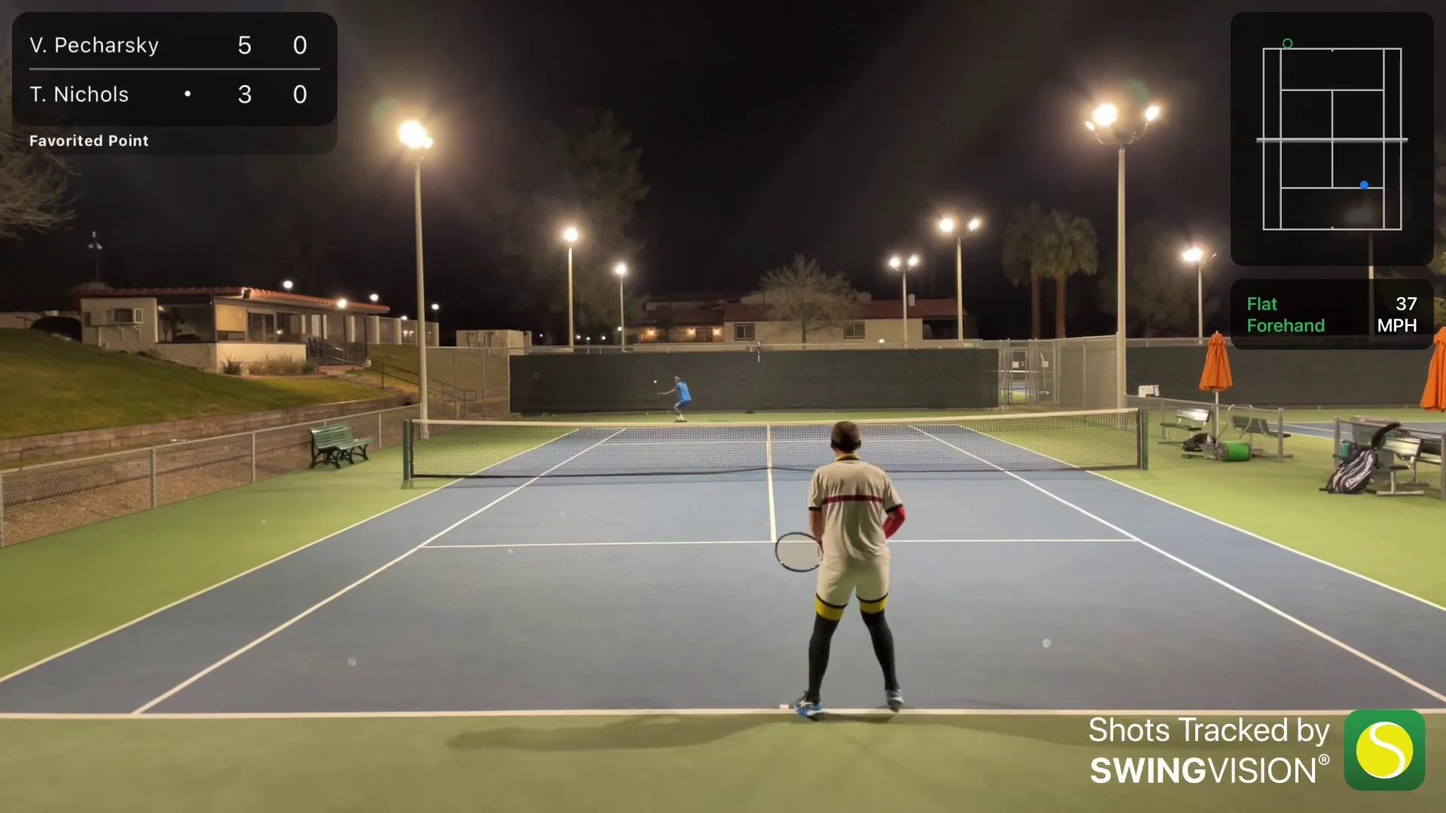ball: (653, 378, 659, 385)
